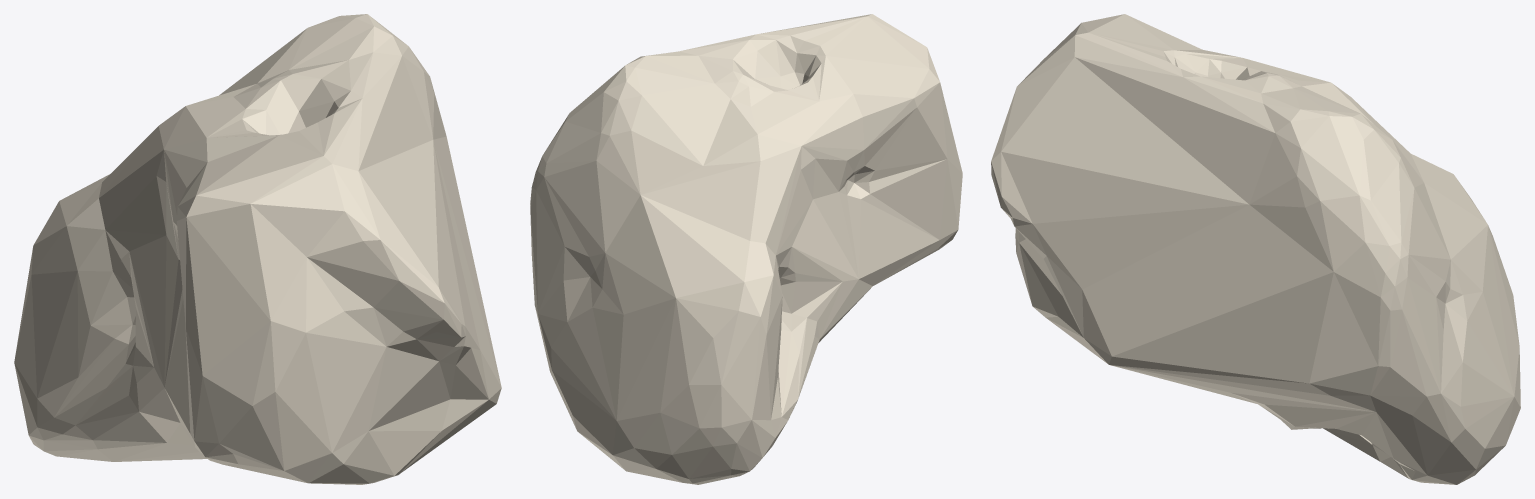
The model's file is left_trapezoid.glb.
The picture shows the model from 3 angles, left to right: view 1: azimuth 30°, elevation 25°; view 2: azimuth 150°, elevation 25°; view 3: azimuth 270°, elevation 25°; orthographic projection. The views are drawn at different scales.
Visible parts, largest first — view 1: left_trapezoid; view 2: left_trapezoid; view 3: left_trapezoid.
Boxes of the visible parts, bbox=[...] form: left_trapezoid: bbox=[14, 14, 501, 484]; left_trapezoid: bbox=[530, 14, 962, 484]; left_trapezoid: bbox=[991, 14, 1520, 484].
Size of the model in its own units: 0.0112 by 0.0127 by 0.015.
